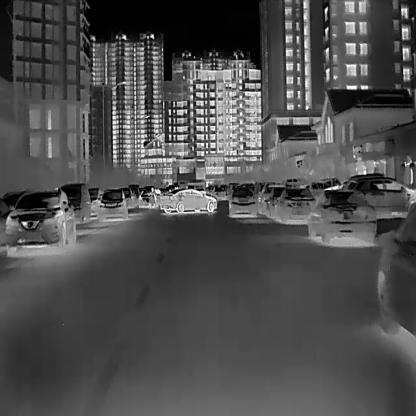car: (376, 200, 415, 340), (5, 189, 76, 249), (307, 187, 377, 244), (348, 174, 415, 214), (274, 187, 316, 225), (158, 188, 216, 213), (58, 183, 91, 222), (258, 183, 287, 217), (228, 186, 258, 217), (98, 189, 127, 220), (264, 186, 288, 217), (137, 189, 161, 208), (119, 186, 138, 209)
